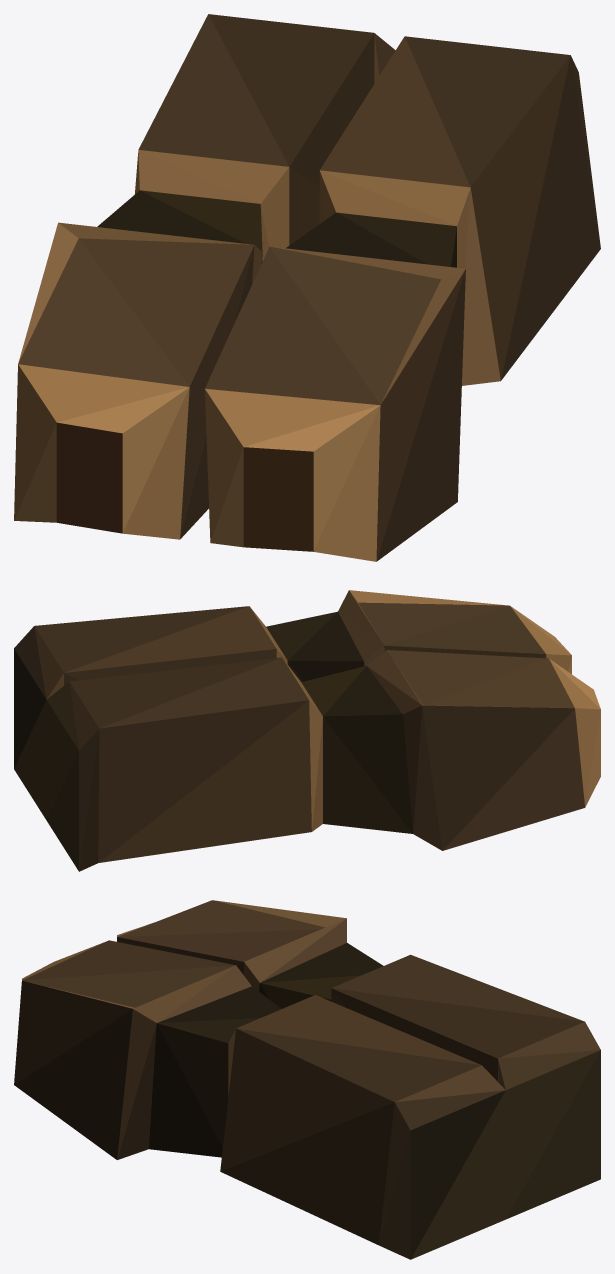
The model's file is splitbark-robe-bottom.obj.
The picture shows the model from 3 angles, top to bottom: view 1: azimuth 30°, elevation 25°; view 2: azimuth 150°, elevation 25°; view 3: azimuth 270°, elevation 25°; orthographic projection. The views are drawn at different scales.
Visible parts, largest first — view 1: Item Splitbark legs 2026-09-24_18-04-45; view 2: Item Splitbark legs 2026-09-24_18-04-45; view 3: Item Splitbark legs 2026-09-24_18-04-45.
Boxes of the visible parts, box(x1,y1,x2,y2) form: Item Splitbark legs 2026-09-24_18-04-45: box(14, 14, 600, 561); Item Splitbark legs 2026-09-24_18-04-45: box(14, 590, 600, 871); Item Splitbark legs 2026-09-24_18-04-45: box(14, 900, 600, 1259).
Size of the model in its own units: 74 by 23 by 74.
